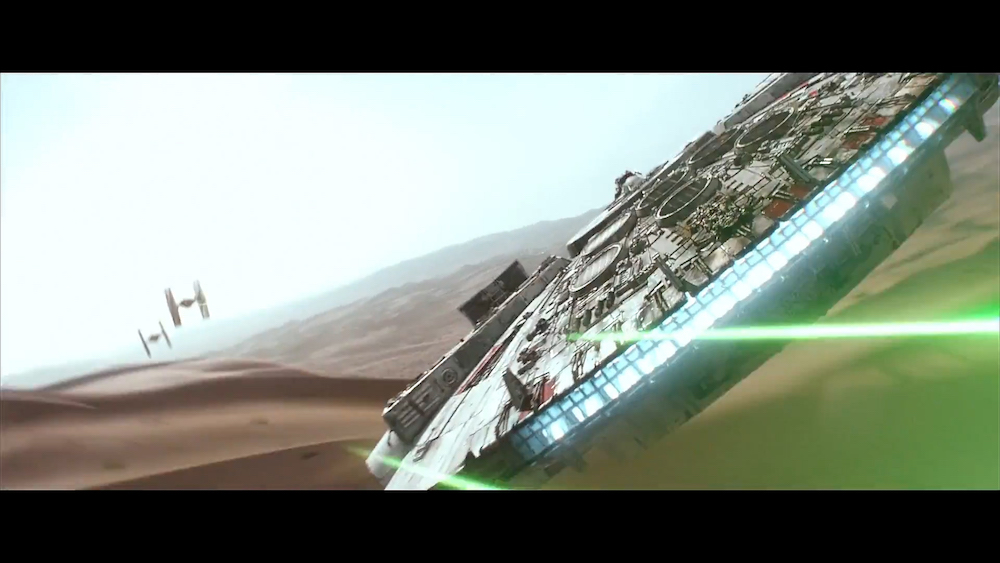Millennium Falcon: (366, 74, 998, 491)
Tie Fighter: (164, 281, 211, 328), (138, 322, 173, 359)
